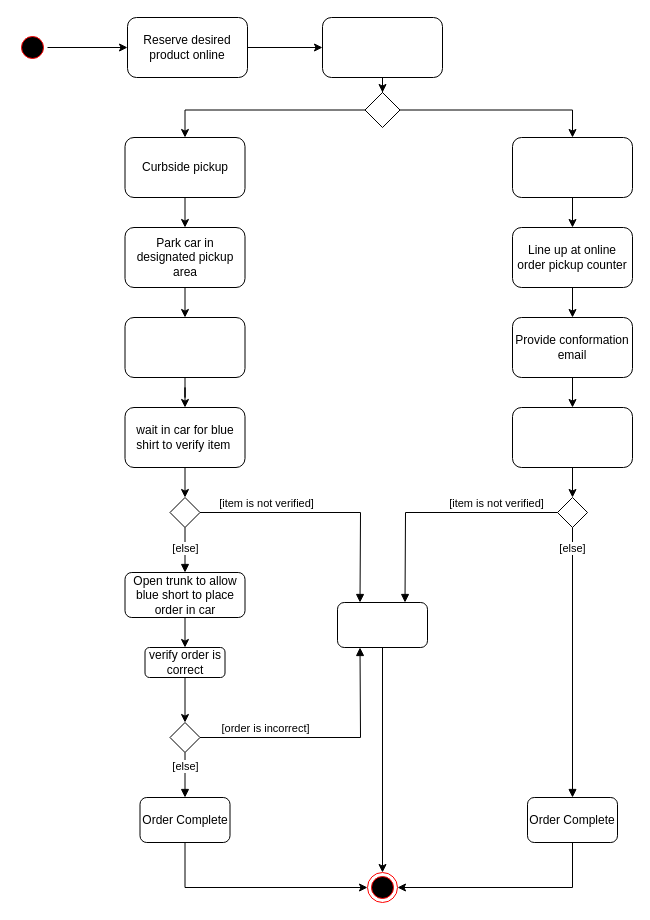
The diagram is 650 pixels wide and 920 high, and some of its shapes have lost their labels. The shapes that lost their labels are listed below. From the top down, each one's centre as x and y in pixels, then its label:
point (382, 47): Receive "Ready for Pickup" email
point (572, 167): In-Store Pickup
point (184, 347): Call store and press 3
point (572, 437): Provide 2 pieces of ID to verify item
point (382, 625): File a complaint
